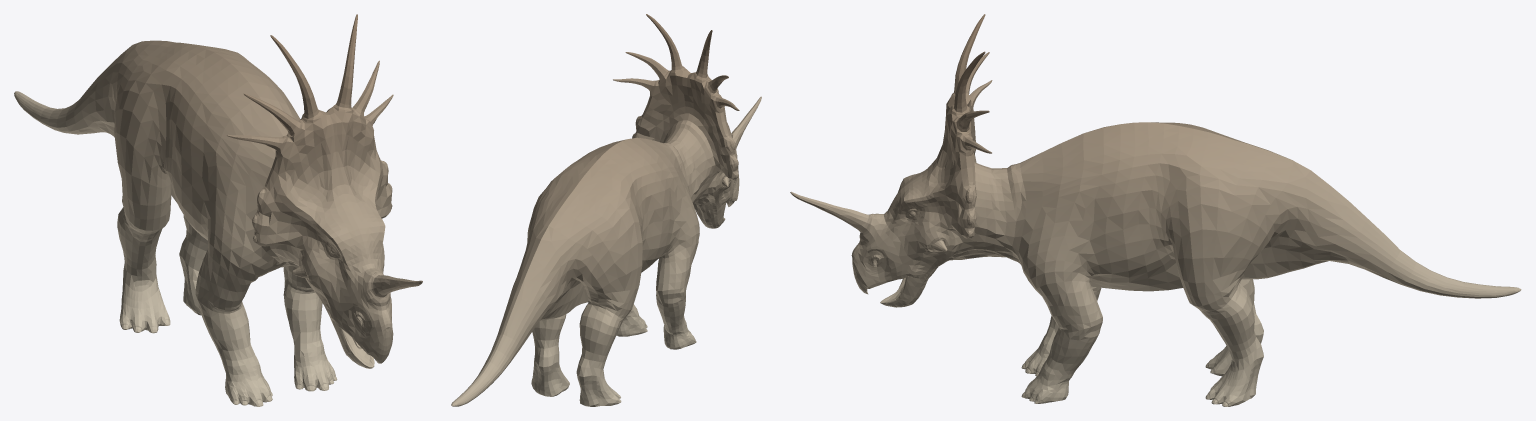
Rendered from styracosaurus.glb.
The picture shows the model from 3 angles, left to right: view 1: azimuth 30°, elevation 25°; view 2: azimuth 150°, elevation 25°; view 3: azimuth 270°, elevation 25°; orthographic projection. The views are drawn at different scales.
Visible parts, largest first — view 1: styracosaurus; view 2: styracosaurus; view 3: styracosaurus.
Boxes of the visible parts, box(x1,y1,x2,y2) form: styracosaurus: box(14, 14, 422, 406); styracosaurus: box(451, 14, 761, 406); styracosaurus: box(790, 14, 1521, 406).
Size of the model in its own units: 3.1 by 6.96 by 13.13.
